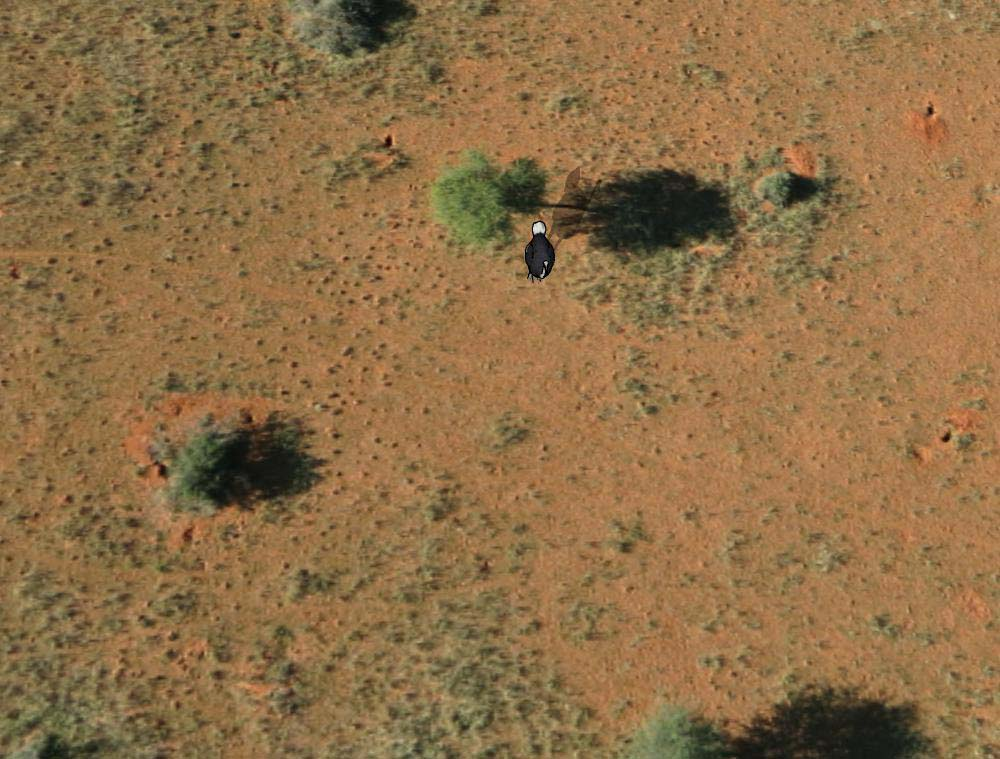ostrich: (522, 221, 556, 283)
